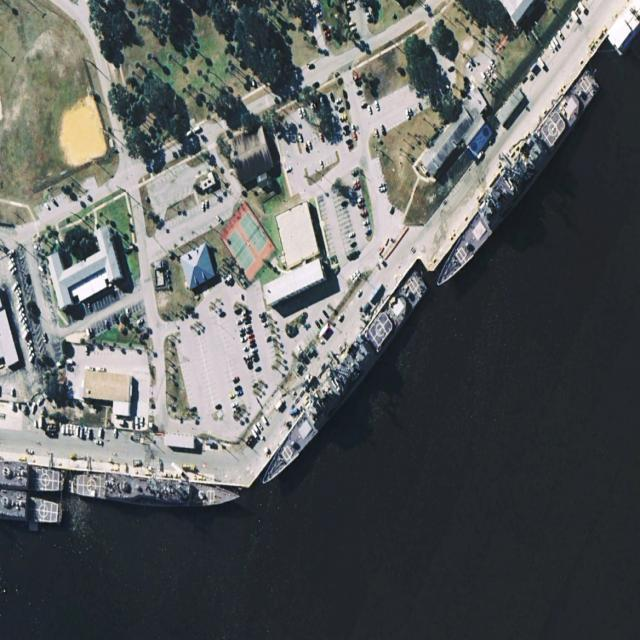Cruiser: (255, 265, 429, 501), (428, 65, 603, 297)
Frigate: (68, 472, 241, 512)
